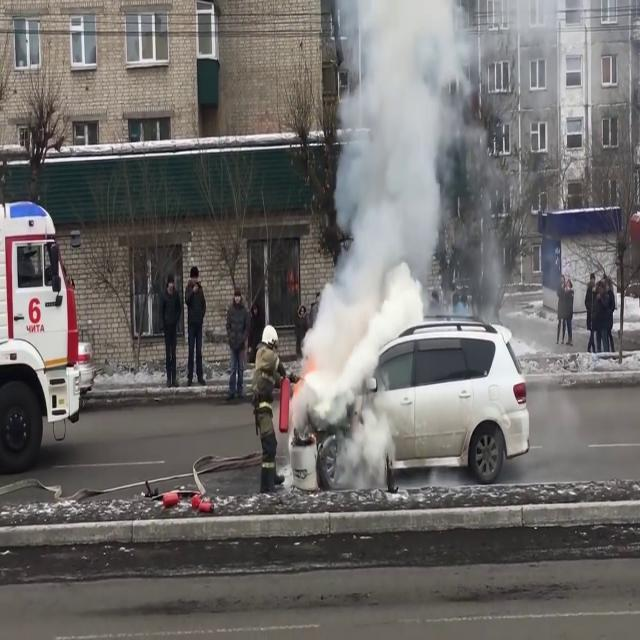Smoke: (290, 1, 492, 497)
